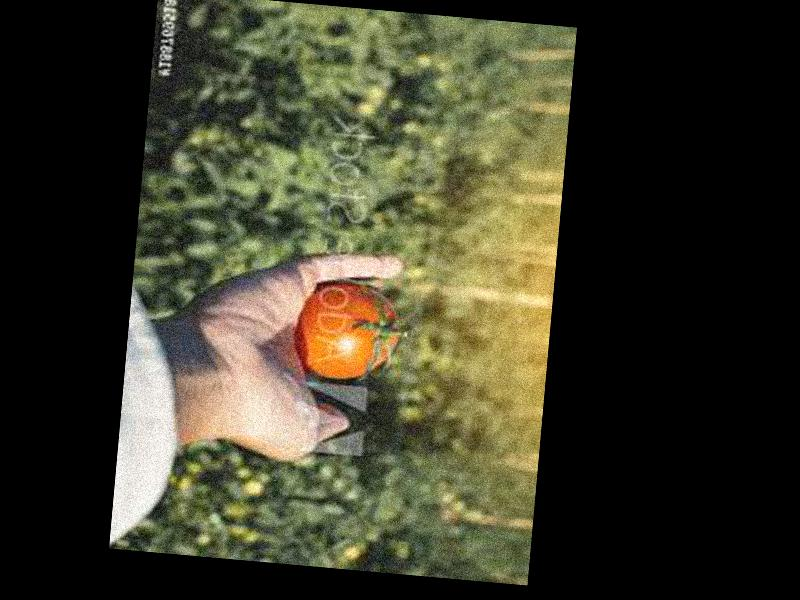Tomato: (297, 277, 401, 381)
